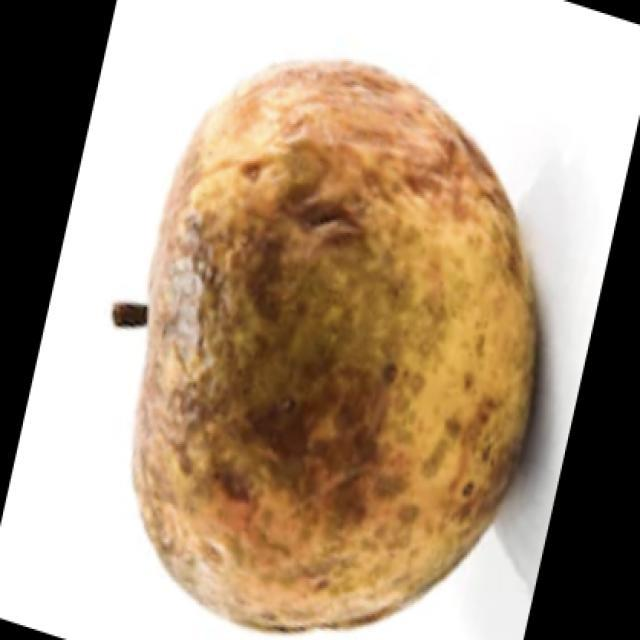Rotten: (128, 70, 558, 635)
